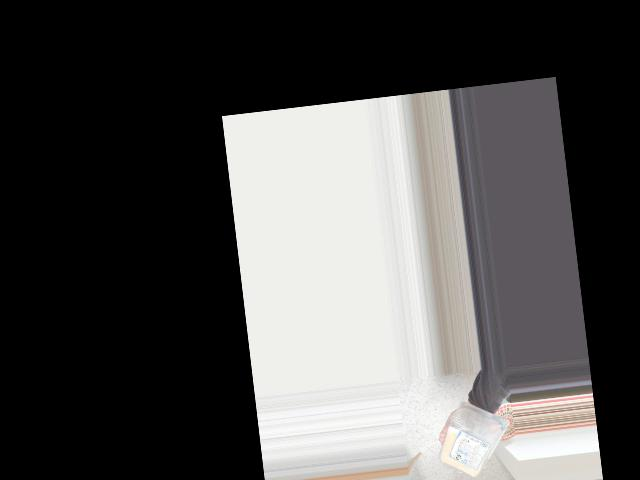cheese: (443, 406, 509, 480)
